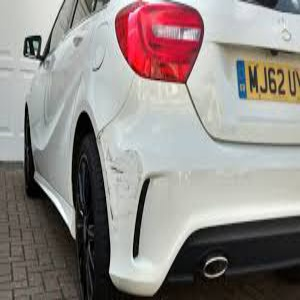door_scratch: (110, 169, 210, 253), (93, 93, 152, 134)
